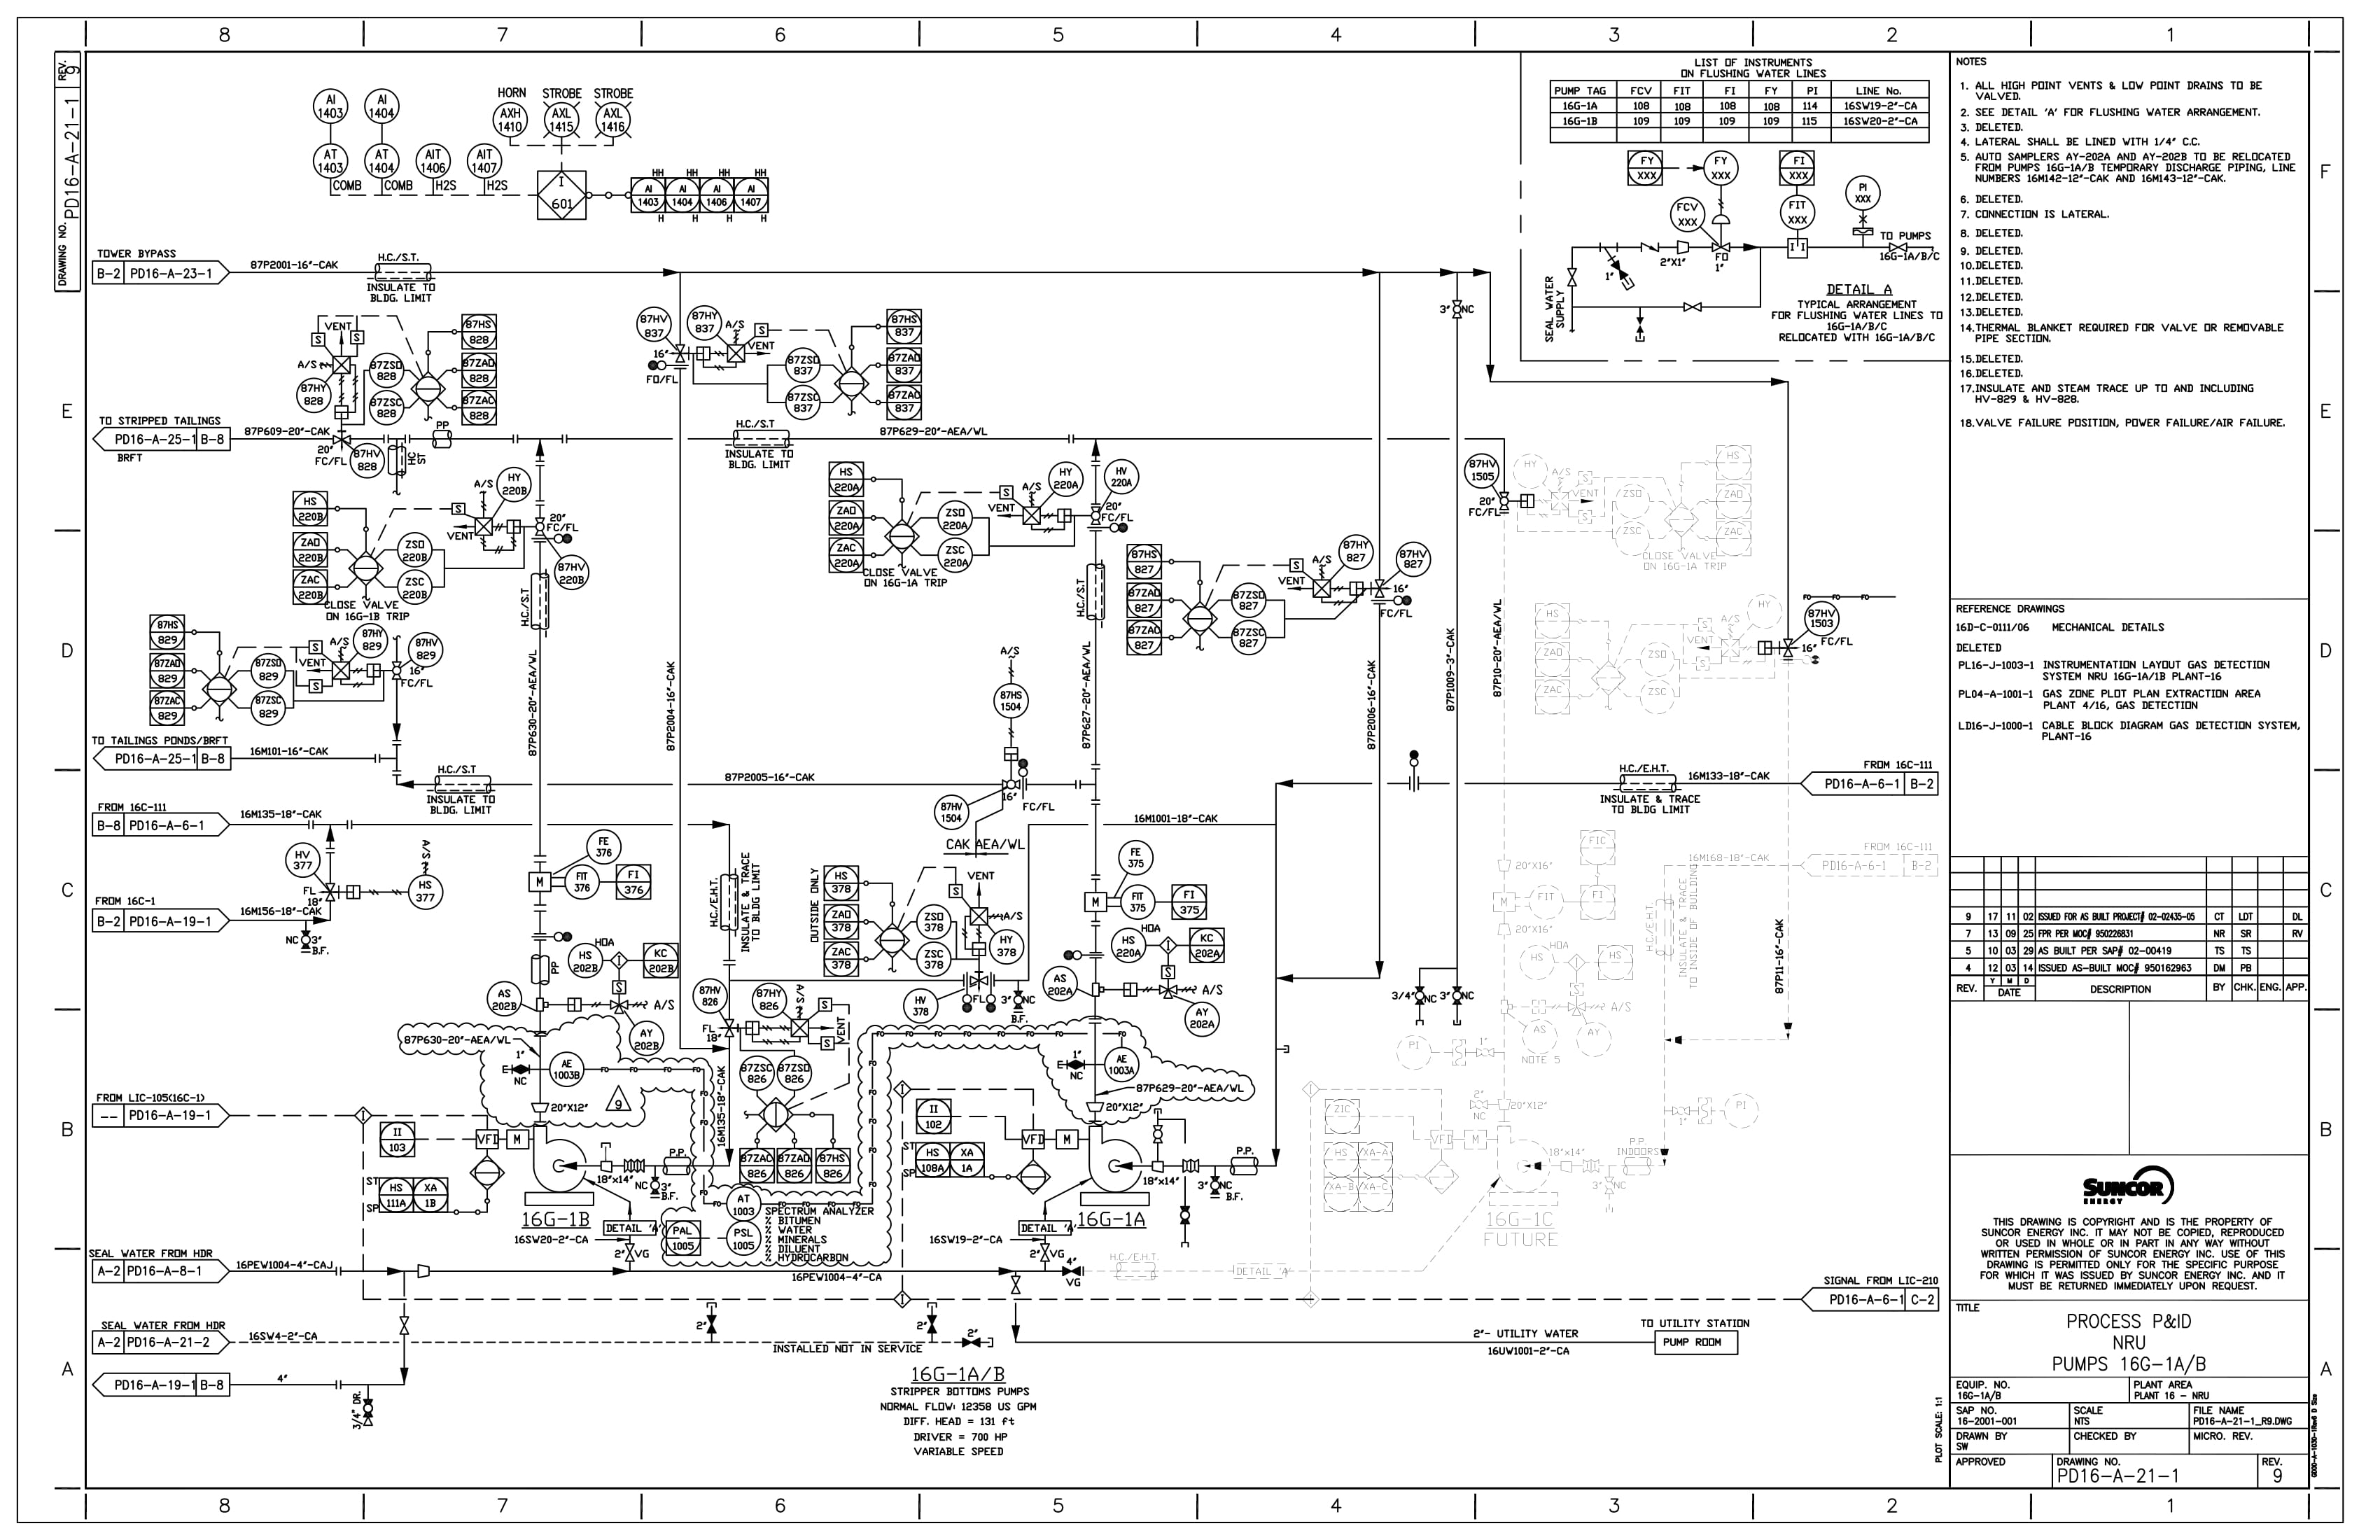Inline Instrument: (468, 132, 517, 189), (307, 83, 357, 132), (933, 532, 985, 577), (1391, 532, 1435, 586), (548, 1046, 592, 1096), (1181, 999, 1228, 1044), (1108, 923, 1155, 968), (364, 82, 408, 130), (394, 527, 437, 576), (1048, 454, 1089, 505), (630, 1015, 670, 1065), (312, 140, 356, 186), (633, 303, 678, 347), (550, 553, 595, 597), (1334, 525, 1376, 572), (411, 140, 454, 184), (491, 99, 533, 144), (937, 496, 978, 541), (1464, 446, 1504, 493), (283, 839, 324, 883), (902, 983, 944, 1027), (737, 1051, 779, 1094), (1041, 961, 1081, 1006), (486, 980, 527, 1021), (1115, 836, 1155, 879), (749, 976, 789, 1018), (777, 1054, 819, 1094), (784, 383, 824, 425), (683, 302, 725, 342), (782, 345, 822, 385), (408, 630, 446, 671), (1105, 456, 1143, 498), (725, 1219, 763, 1261), (585, 824, 623, 865), (566, 936, 602, 980), (914, 902, 954, 940), (933, 791, 970, 832), (293, 380, 335, 414), (406, 874, 444, 910), (566, 867, 604, 902), (1124, 883, 1157, 919)
Panel Instrument: (730, 166, 788, 229), (135, 687, 199, 732), (449, 385, 510, 432), (623, 165, 671, 222), (141, 607, 196, 652), (1121, 614, 1169, 664), (1183, 924, 1233, 973), (284, 567, 338, 610), (284, 489, 337, 532), (912, 1093, 959, 1139), (373, 1174, 420, 1217), (817, 940, 867, 980), (817, 900, 867, 940), (822, 496, 867, 538), (827, 538, 873, 579), (612, 862, 657, 904), (409, 1172, 451, 1217), (826, 458, 873, 498), (1122, 581, 1169, 621), (914, 1138, 954, 1184), (819, 864, 867, 902), (642, 938, 683, 982), (881, 349, 933, 383), (1169, 881, 1213, 923), (1124, 538, 1166, 579), (879, 307, 925, 345), (461, 309, 500, 352), (291, 534, 335, 571)
